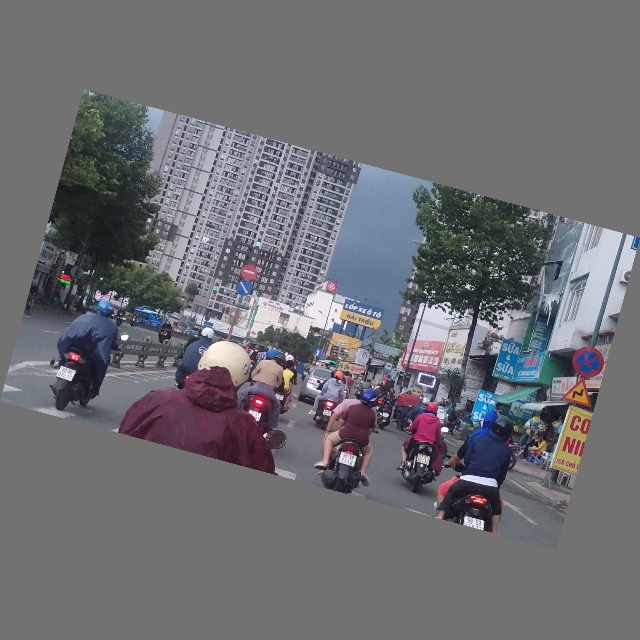I.407a: (313, 348, 323, 358)
I.434a: (383, 362, 394, 374)
P.102: (239, 263, 259, 282)
P.130: (569, 344, 609, 383)
R.302a: (234, 279, 254, 298)
W.202b: (561, 376, 599, 410)
